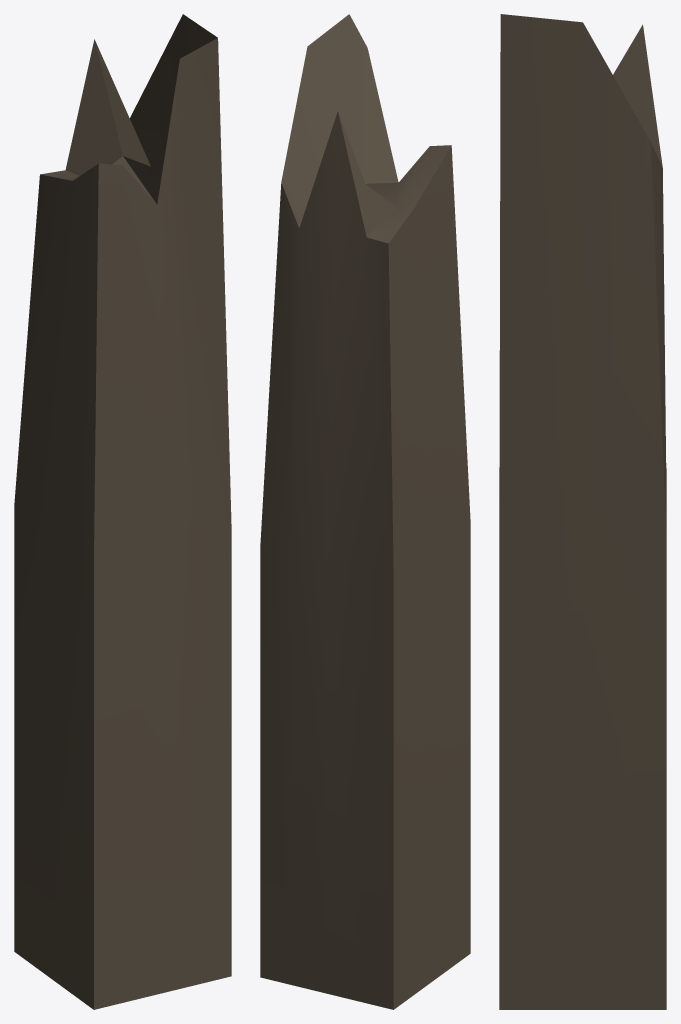
The model's file is gelaender_pfosten_mitte_kaputt.glb.
3 renders of one model, left to right at view 1: azimuth 30°, elevation 25°; view 2: azimuth 150°, elevation 25°; view 3: azimuth 270°, elevation 25°, orthographic. The views are drawn at different scales.
Visible parts, largest first — view 1: gelaender_pfosten_mitte_kaputt; view 2: gelaender_pfosten_mitte_kaputt; view 3: gelaender_pfosten_mitte_kaputt.
Part boxes in pixels (x1,y1,x2,y2): gelaender_pfosten_mitte_kaputt: (14,14,231,1009); gelaender_pfosten_mitte_kaputt: (260,14,470,1009); gelaender_pfosten_mitte_kaputt: (499,14,666,1009).
Size of the model in its own units: 0.1 by 0.6529 by 0.1.
